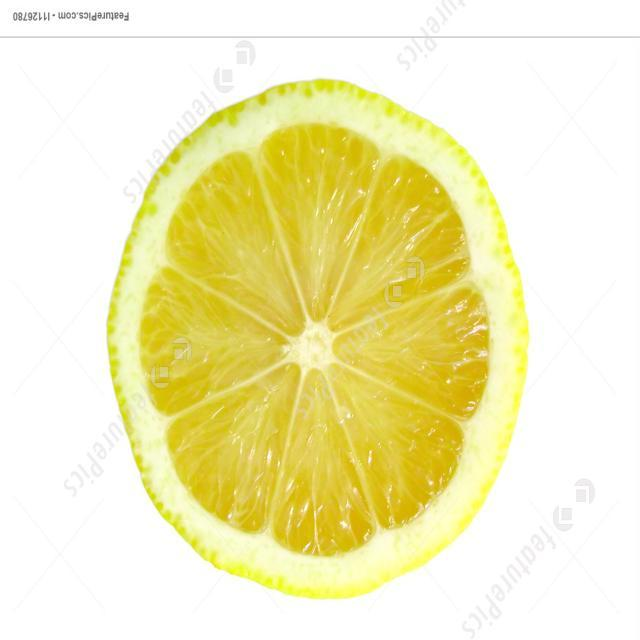lemon: (112, 74, 538, 609)
